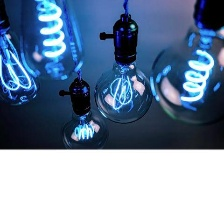light_bulb: (147, 0, 224, 129), (90, 9, 156, 127), (16, 0, 89, 85), (53, 75, 114, 159), (0, 0, 43, 106)
